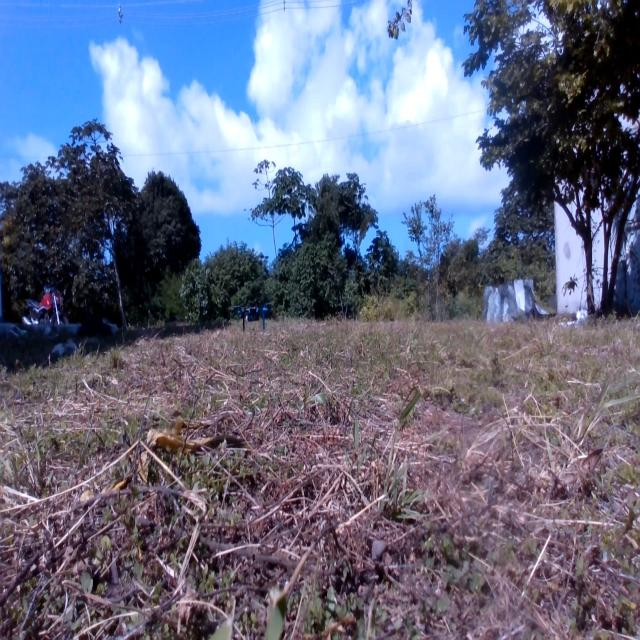-uav-: (238, 301, 272, 330)
